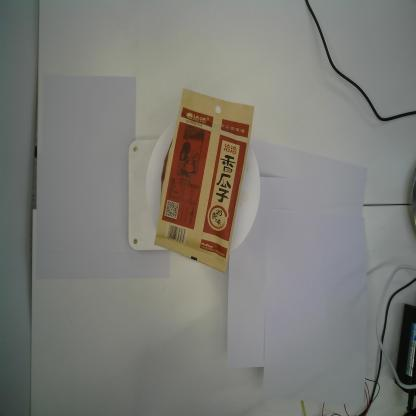Dried Food: (154, 88, 255, 274)
